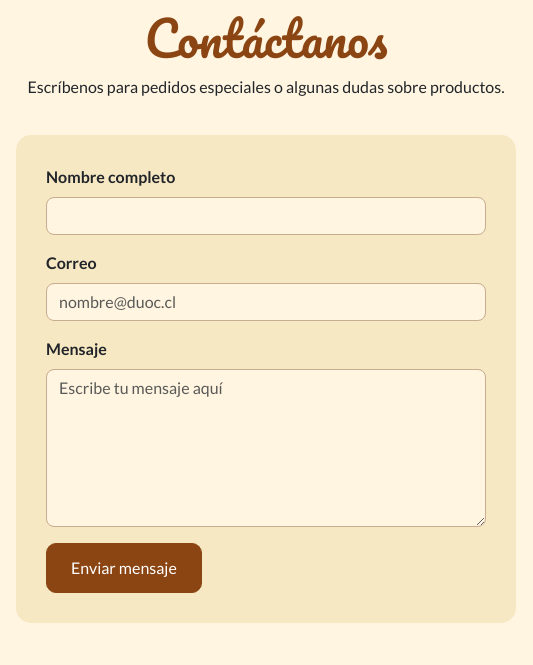
it: Página Contacto › valida el dominio del correo en tiempo real
Type "ana@hotmail.com" into the field labelled "Correo" at [266, 302], box [46,283,486,321]
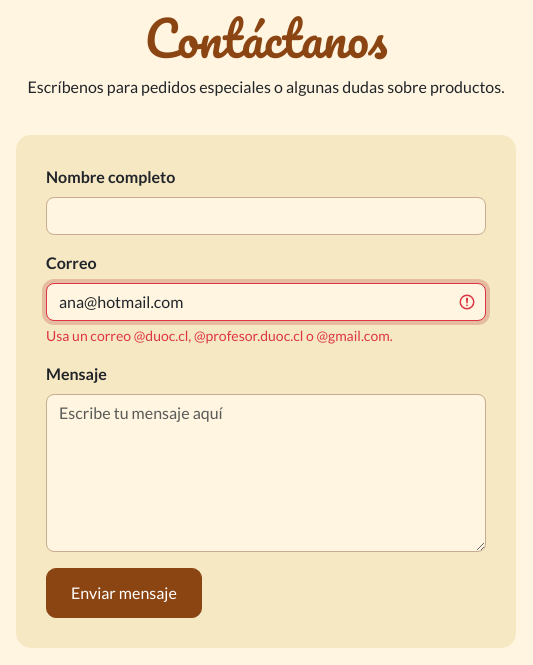
Expected: the text "Usa un correo @duoc.cl, @profesor.duoc.cl o @gmail.com." is shown, [46,327,393,344]
